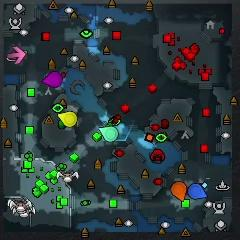p1: (188, 183, 208, 201)
p2: (99, 125, 119, 144)
p3: (41, 71, 63, 88)
p4: (56, 111, 77, 128)
p5: (171, 181, 187, 203)
x1: (9, 45, 25, 65)
